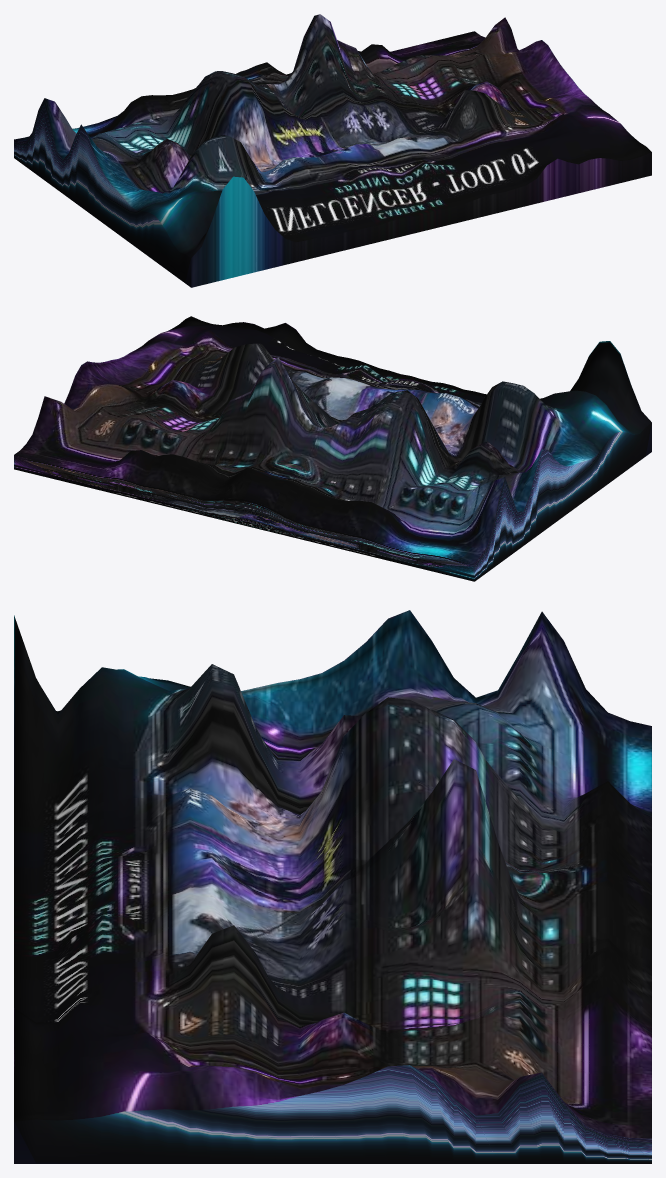
File: CAREER_10_Tool_07_Editing.glb
3 renders of one model, top to bottom at view 1: azimuth 30°, elevation 25°; view 2: azimuth 150°, elevation 25°; view 3: azimuth 270°, elevation 25°, orthographic. The views are drawn at different scales.
Parts seen in each view (by area): view 1: CAREER_10_Tool_07_Editing; view 2: CAREER_10_Tool_07_Editing; view 3: CAREER_10_Tool_07_Editing.
Boxes of the visible parts, bbox=[...] form: CAREER_10_Tool_07_Editing: bbox=[14, 14, 651, 287]; CAREER_10_Tool_07_Editing: bbox=[14, 316, 651, 581]; CAREER_10_Tool_07_Editing: bbox=[14, 610, 651, 1163].
Bounding box in the file's own units: 2 × 0.51 × 1.33.
Materials: 1 (1 with a texture image).
